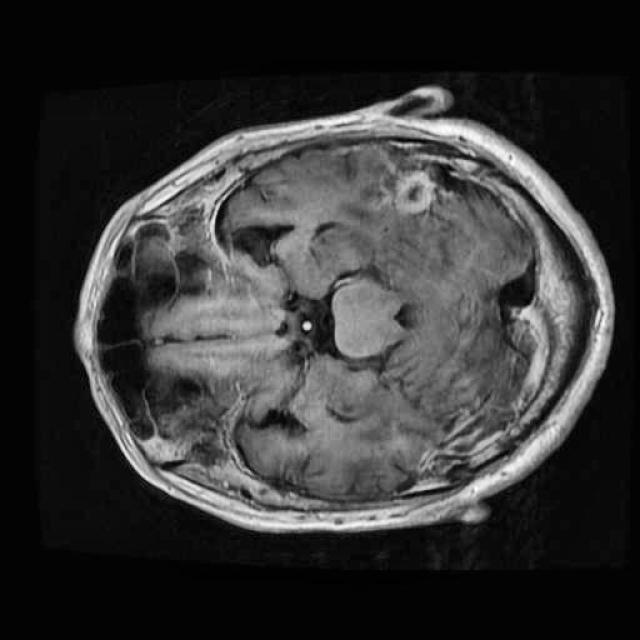Tumor: (376, 154, 459, 226)
